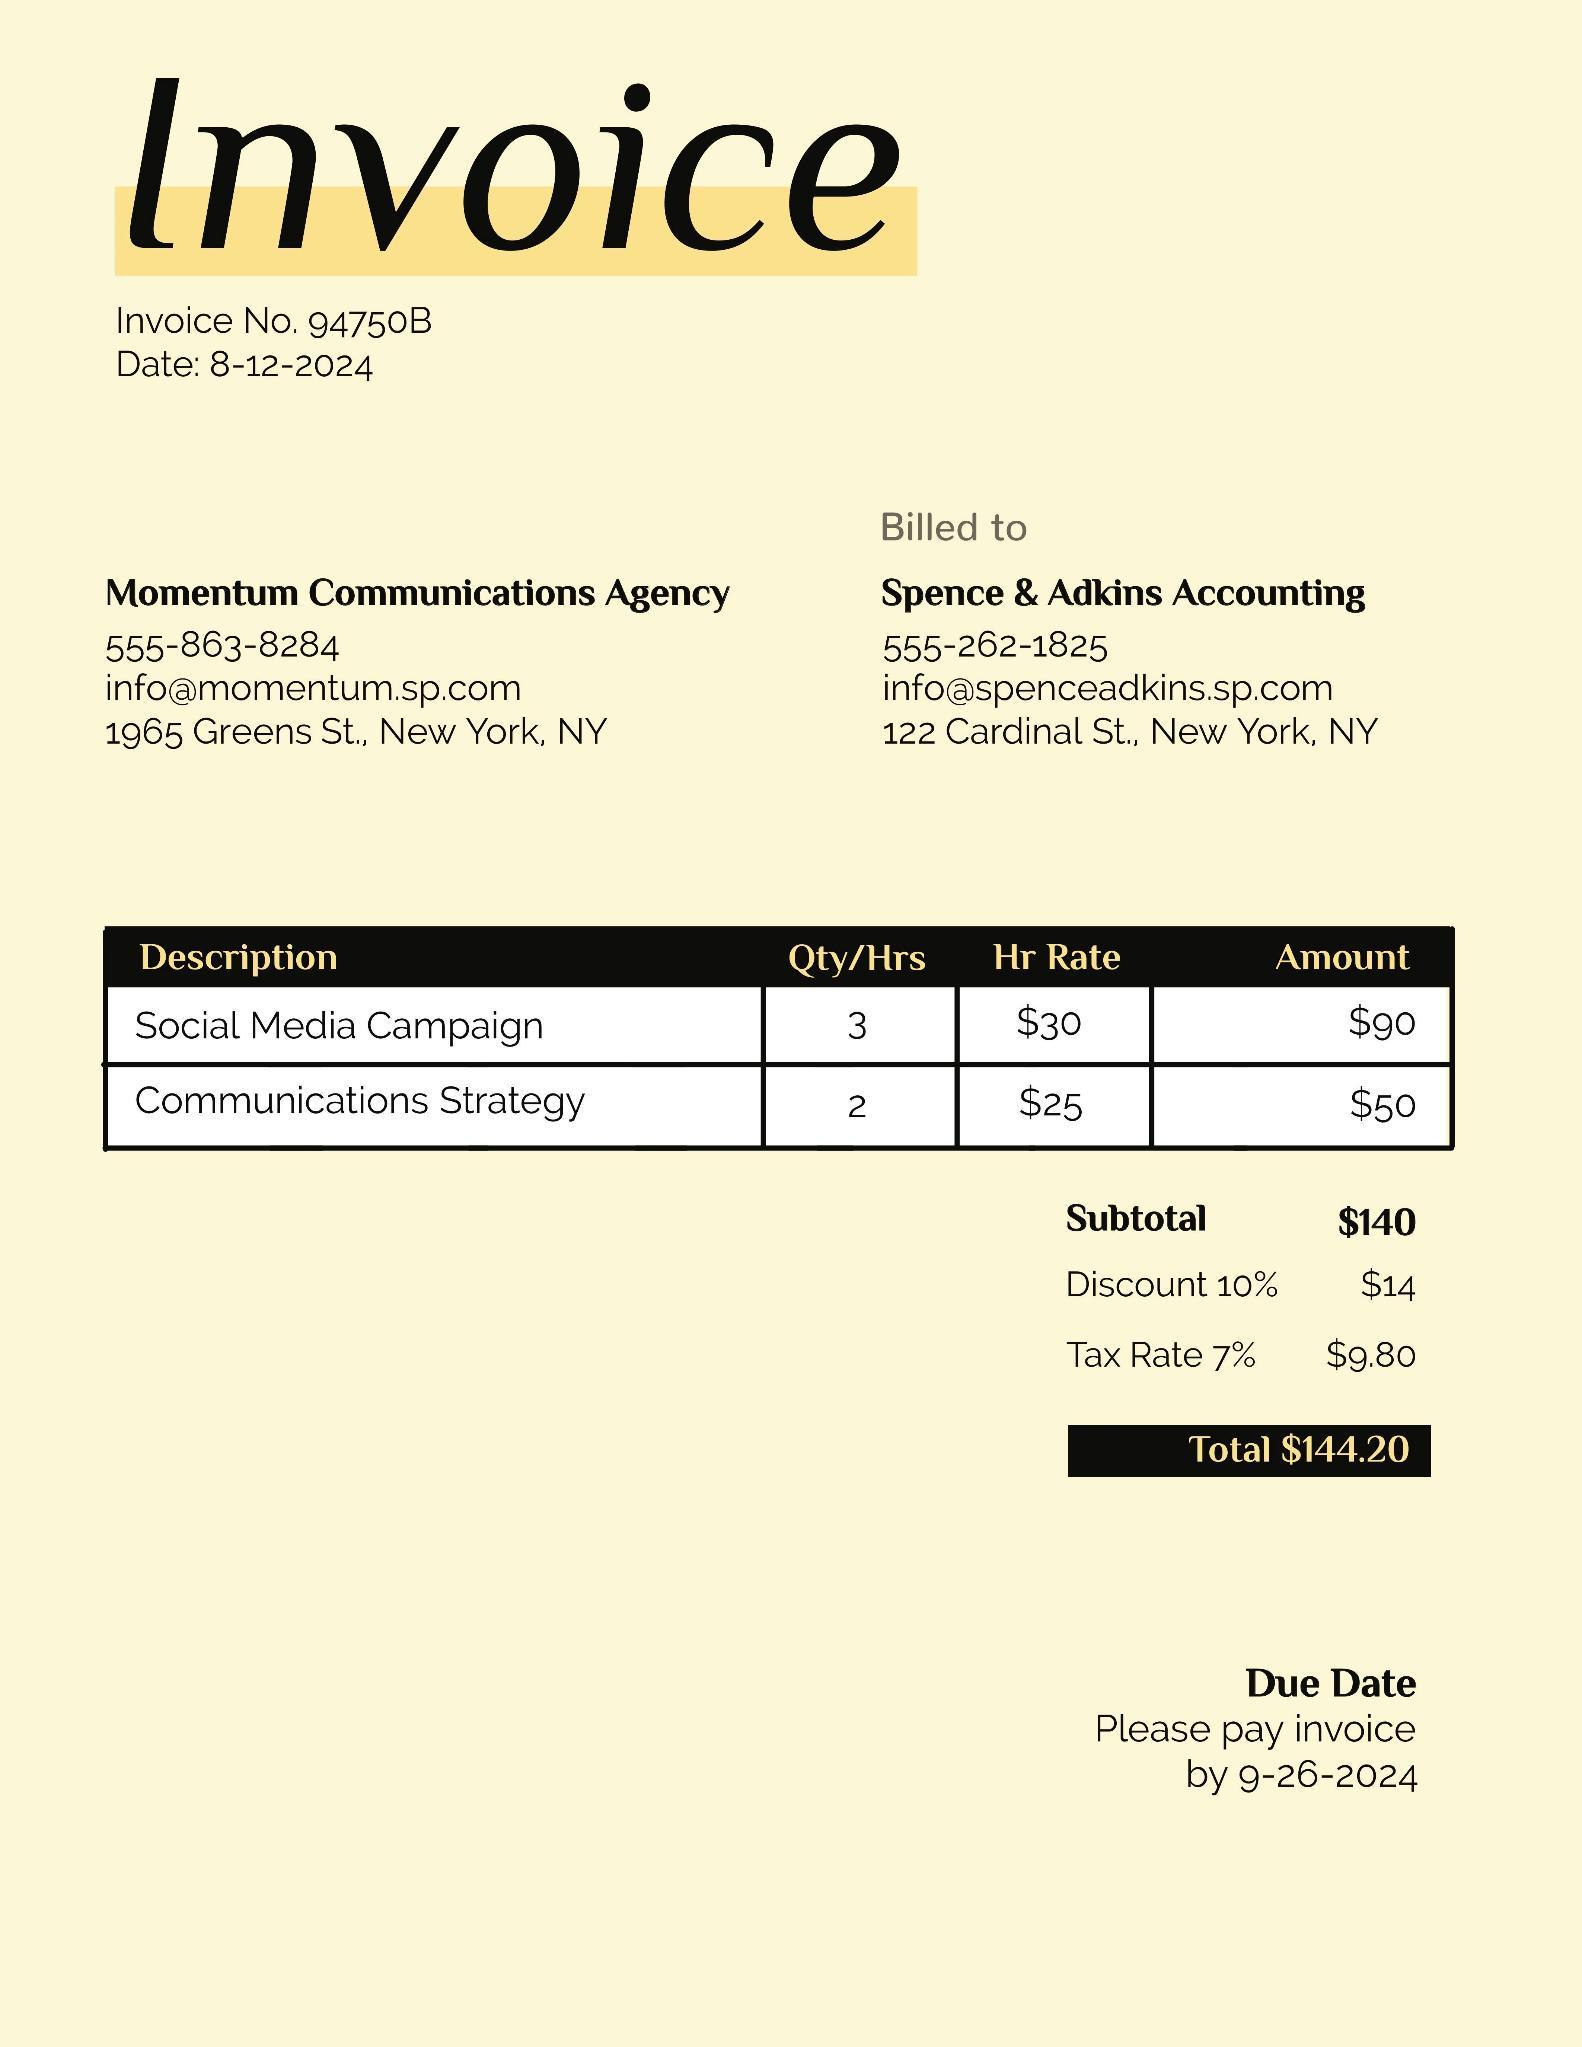ROI: (91, 891, 1472, 1173), (88, 43, 931, 286), (80, 542, 756, 801), (847, 503, 1412, 798), (1025, 1201, 1462, 1490), (1078, 1633, 1459, 1816), (91, 296, 450, 399)
